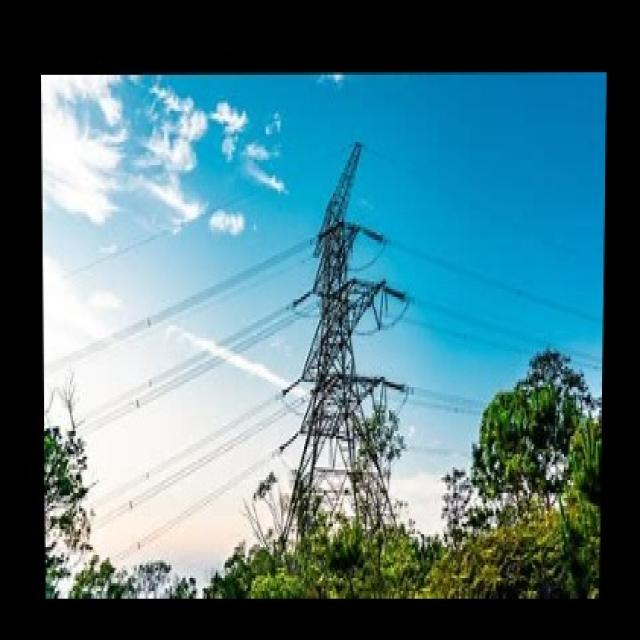utility poles: (457, 338, 581, 512), (328, 374, 425, 538)
